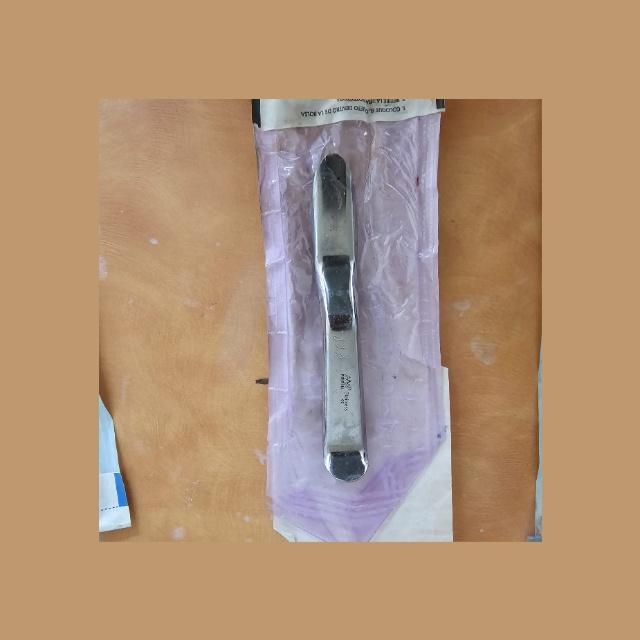separador: (312, 153, 367, 484)
